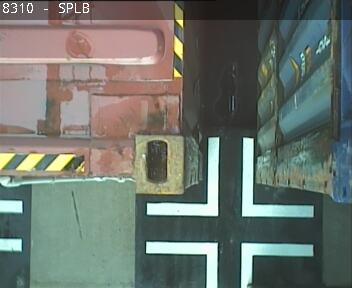groundmarker_1: (145, 139, 313, 218), (146, 241, 313, 288)
